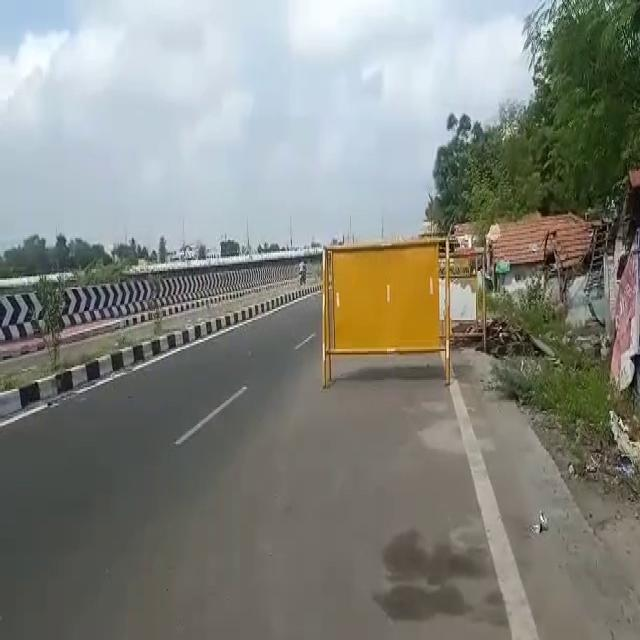fallen_object: (299, 222, 475, 402)
